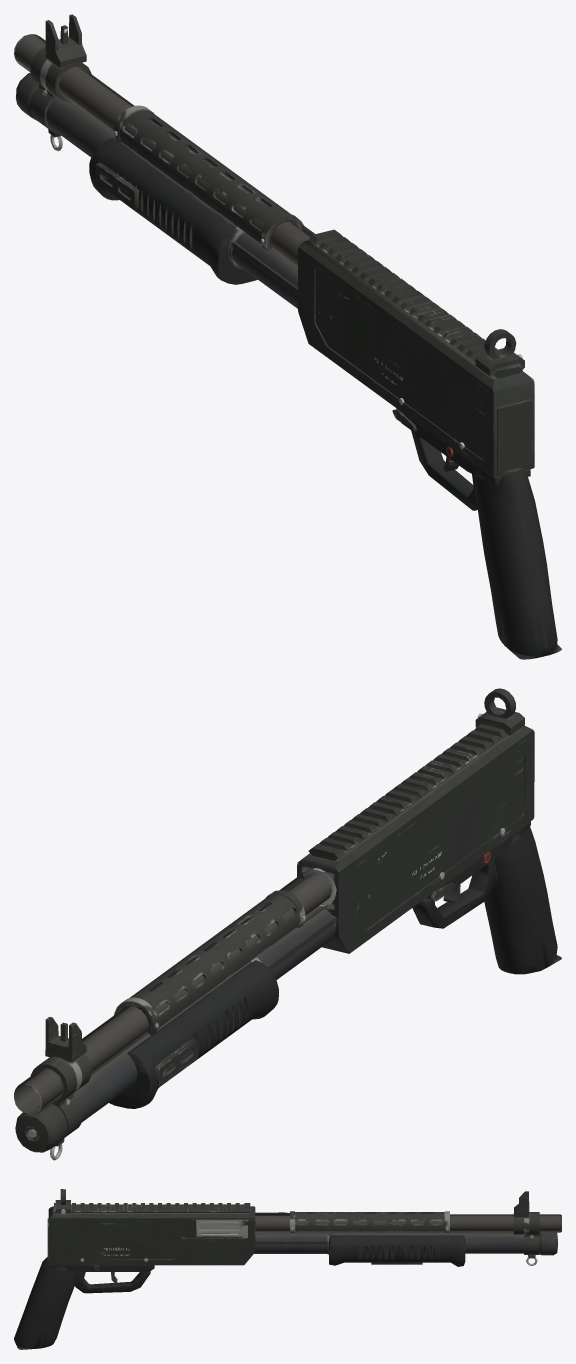
Rendered from espingarda_12_curta_leve.glb.
3 views of the same model, one above another, from view 1: azimuth 30°, elevation 25°; view 2: azimuth 150°, elevation 25°; view 3: azimuth 270°, elevation 25° (orthographic). The views are drawn at different scales.
Parts seen in each view (by area): view 1: espingarda_12_curta_leve; view 2: espingarda_12_curta_leve; view 3: espingarda_12_curta_leve.
Part boxes in pixels (box(x1,y1,x2,y2)): espingarda_12_curta_leve: box(14, 14, 561, 659); espingarda_12_curta_leve: box(14, 688, 561, 1160); espingarda_12_curta_leve: box(14, 1189, 561, 1349).
Size of the model in its own units: 0.0441 by 0.1994 by 0.6364.
1 material, 1 textured.
